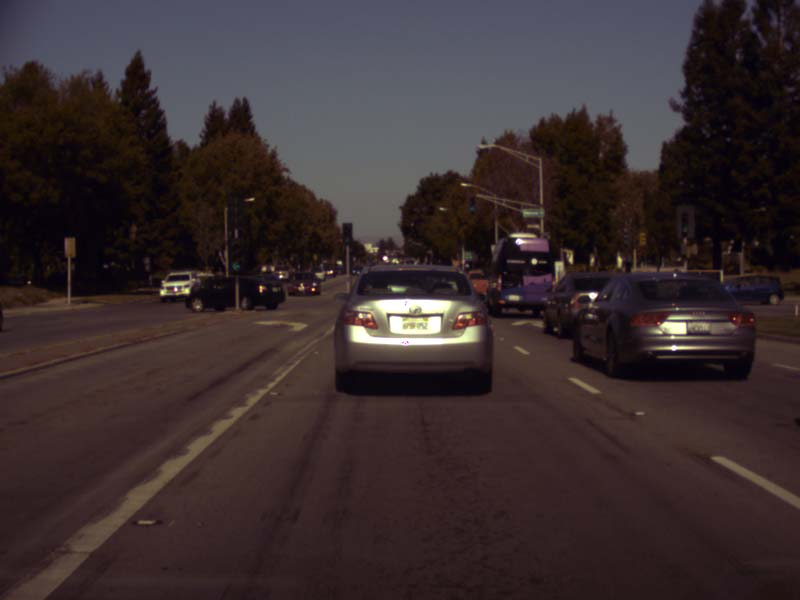Green: (227, 239, 245, 275), (342, 222, 352, 245), (681, 211, 689, 235), (469, 196, 475, 212)
